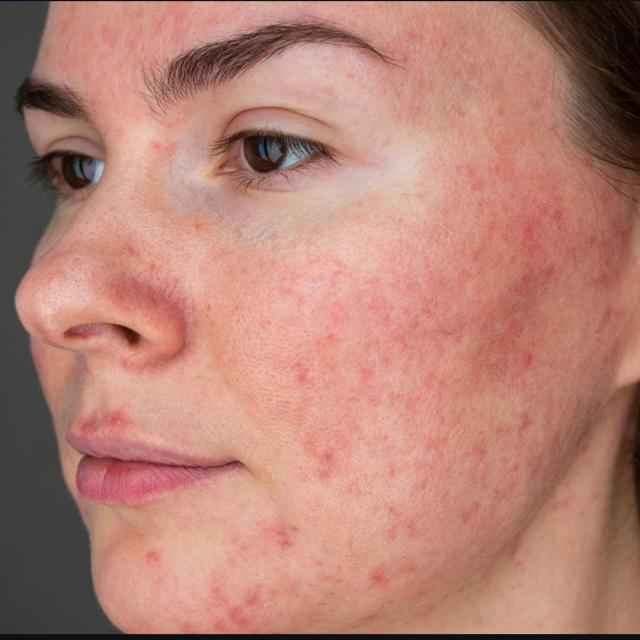Rosacea: (278, 266, 440, 457)
